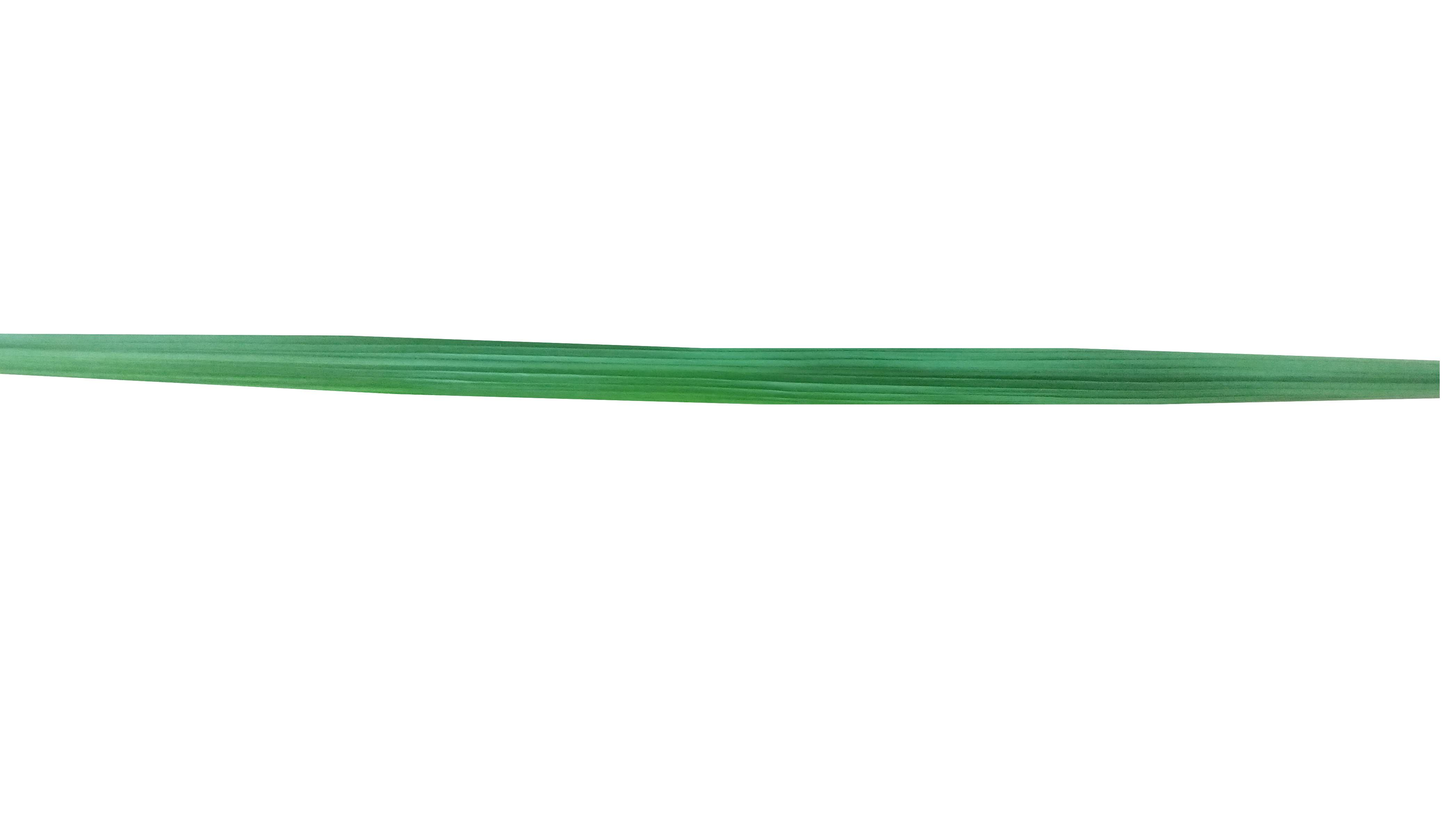Healthy: (0, 332, 1446, 410)
